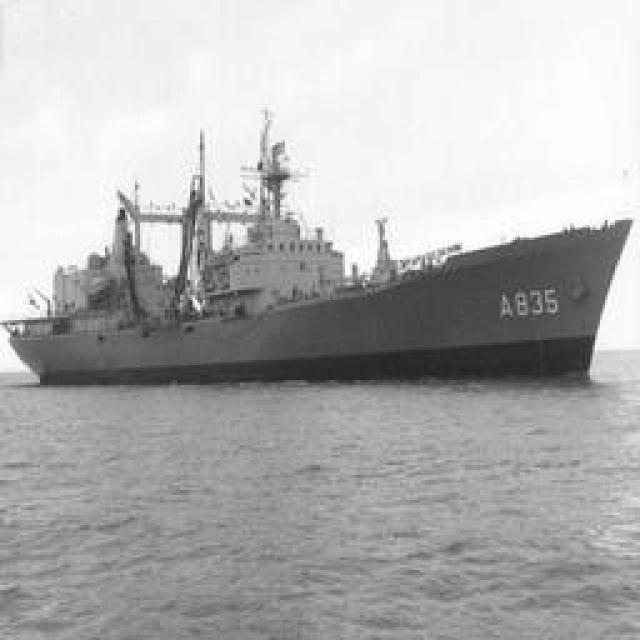Ship: (20, 136, 625, 391)
